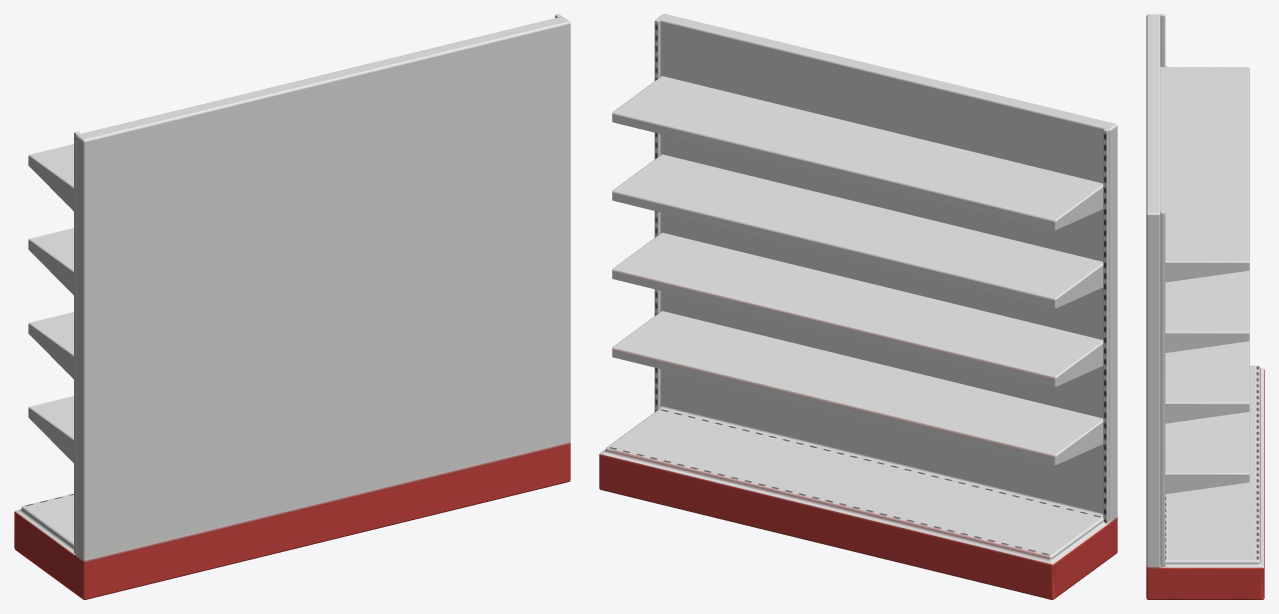
File: etagere.glb
3 renders of one model, left to right at view 1: azimuth 30°, elevation 25°; view 2: azimuth 150°, elevation 25°; view 3: azimuth 270°, elevation 25°, orthographic. The views are drawn at different scales.
Parts seen in each view (by area): view 1: etagere; view 2: etagere; view 3: etagere.
Boxes of the visible parts, x1=… form: etagere: x1=14, y1=14, x2=570, y2=599; etagere: x1=599, y1=14, x2=1117, y2=599; etagere: x1=1146, y1=14, x2=1264, y2=599.
Size of the model in its own units: 2.18 by 1.97 by 0.5446.
1 material, 1 textured.
